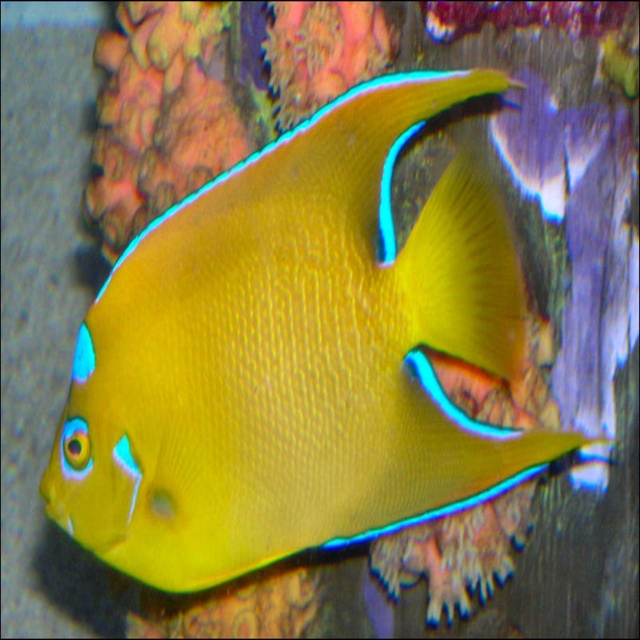Fish: (11, 0, 639, 640)
